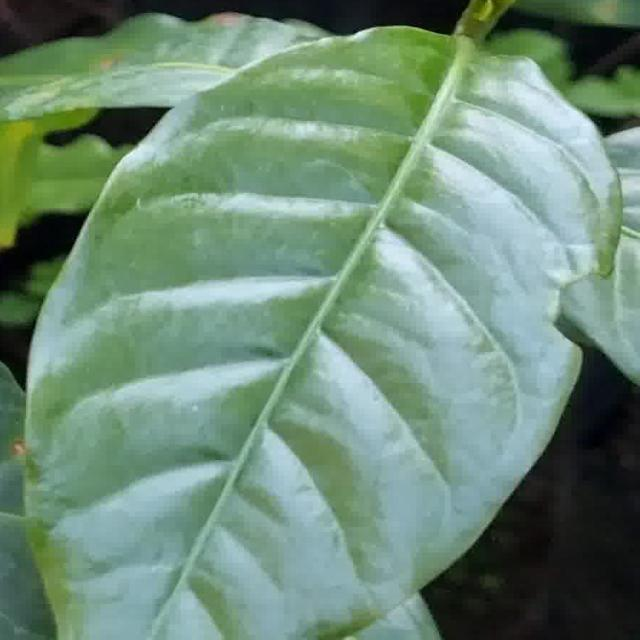leaves: (26, 28, 620, 640)
